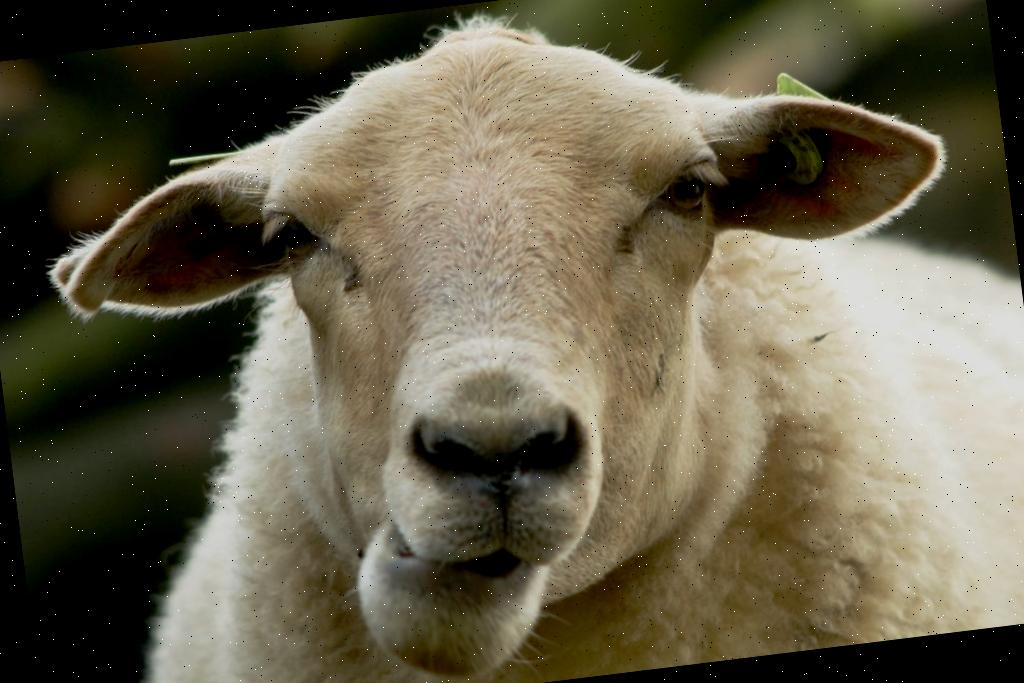Sheep: (13, 0, 1024, 683)
